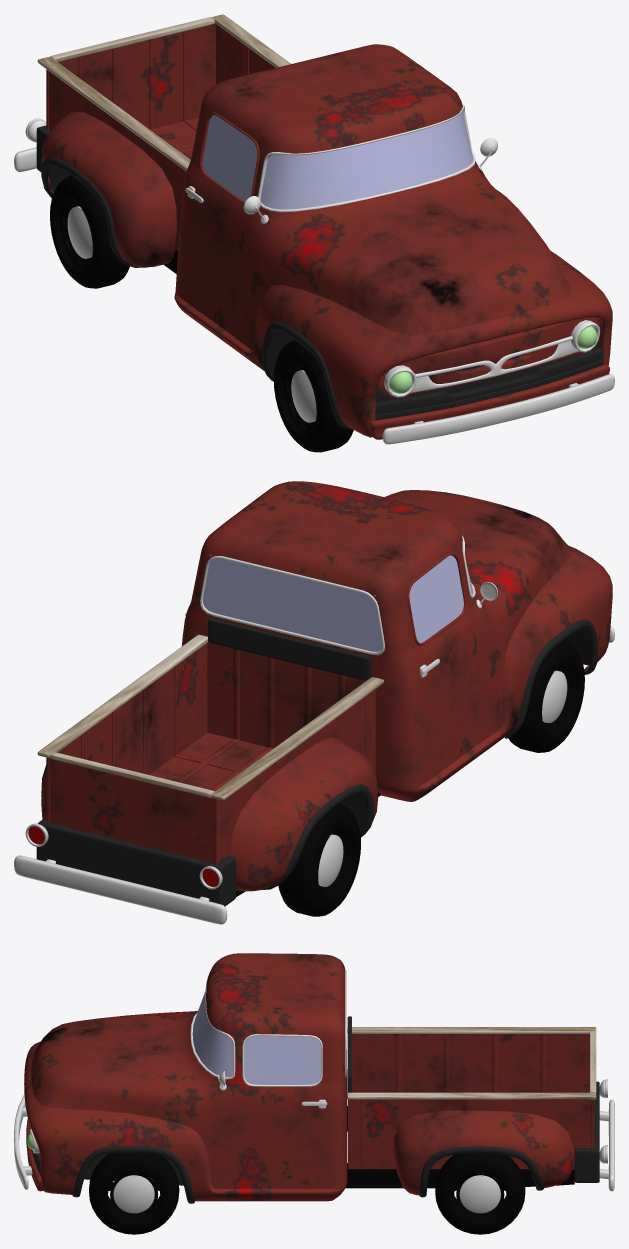
Rendered from Pickup truck.fbx.
3 views of the same model, one above another, from view 1: azimuth 30°, elevation 25°; view 2: azimuth 150°, elevation 25°; view 3: azimuth 270°, elevation 25° (orthographic). The views are drawn at different scales.
Parts seen in each view (by area): view 1: Truck, Wheel RR, Wheel FR; view 2: Truck, Wheel RR, Wheel FR; view 3: Truck, Wheel FL, Wheel RL.
Boxes of the visible parts, x1,y1,x2,y2 form: Truck: [14, 14, 614, 444]; Wheel RR: [50, 175, 129, 288]; Wheel FR: [273, 339, 353, 452]; Truck: [14, 481, 614, 924]; Wheel RR: [278, 803, 360, 916]; Wheel FR: [508, 640, 584, 752]; Truck: [14, 953, 614, 1203]; Wheel FL: [89, 1153, 179, 1234]; Wheel RL: [435, 1153, 525, 1234].
Bounding box in the file's own units: 113 × 105 × 280.
1 material, 1 textured.
